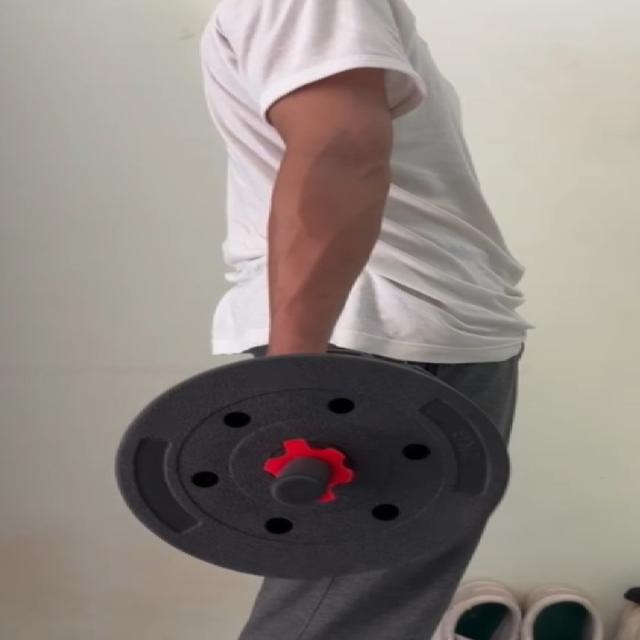dumbbell: (111, 352, 511, 582)
